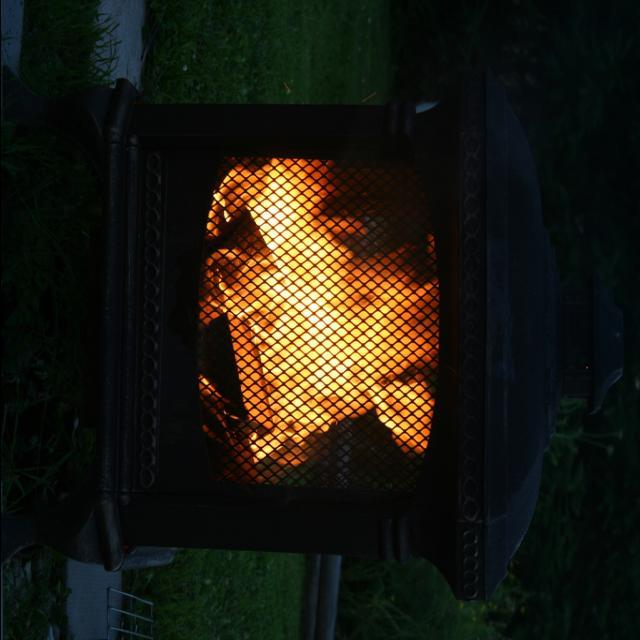Fire: (203, 160, 435, 472)
